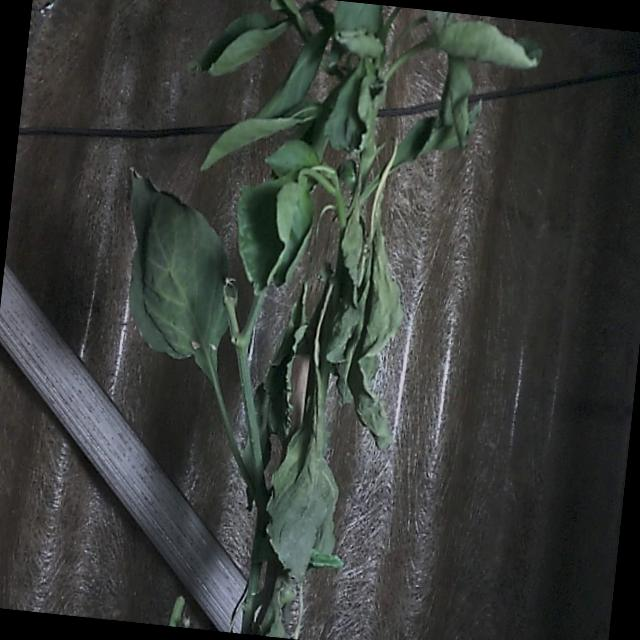Leaf: (112, 167, 245, 369), (259, 404, 348, 586), (198, 90, 321, 184), (232, 167, 318, 297), (192, 2, 287, 87), (422, 14, 546, 75)
